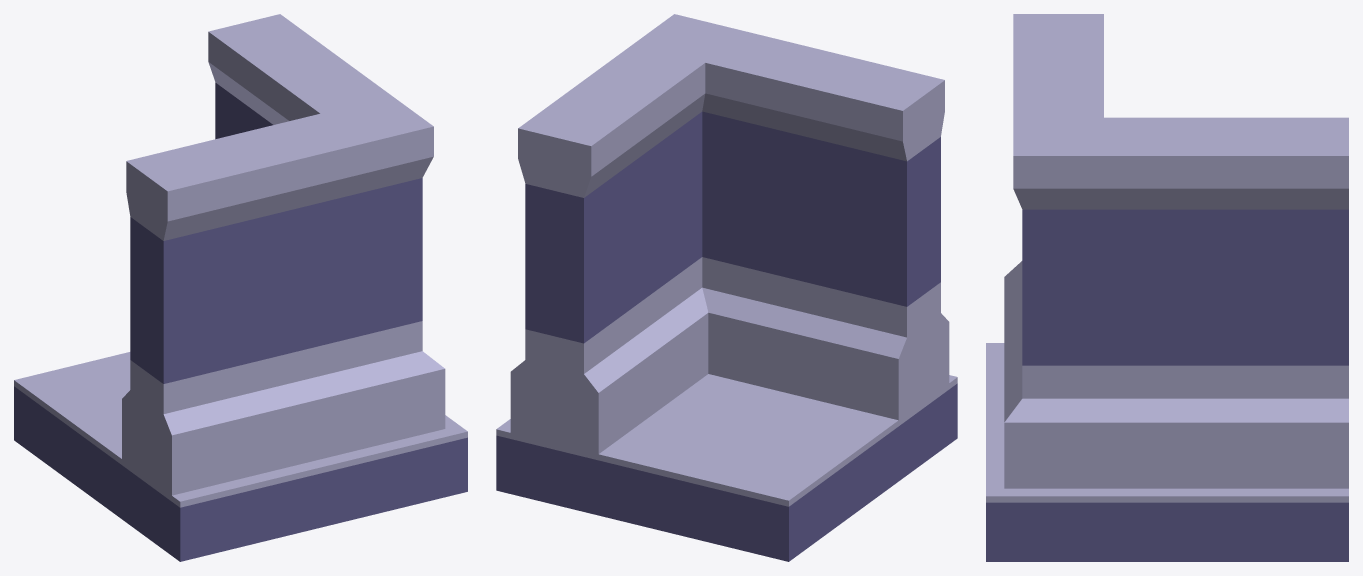
Rendered from interior_wall_variant_2.obj.
The picture shows the model from 3 angles, left to right: view 1: azimuth 30°, elevation 25°; view 2: azimuth 150°, elevation 25°; view 3: azimuth 270°, elevation 25°; orthographic projection. The views are drawn at different scales.
Parts seen in each view (by area): view 1: mergedBlocks; view 2: mergedBlocks; view 3: mergedBlocks.
Part boxes in pixels (x1,y1,x2,y2): mergedBlocks: (14,14,467,561); mergedBlocks: (496,14,957,561); mergedBlocks: (986,14,1348,561).
Size of the model in its own units: 1 by 1.2 by 1.
